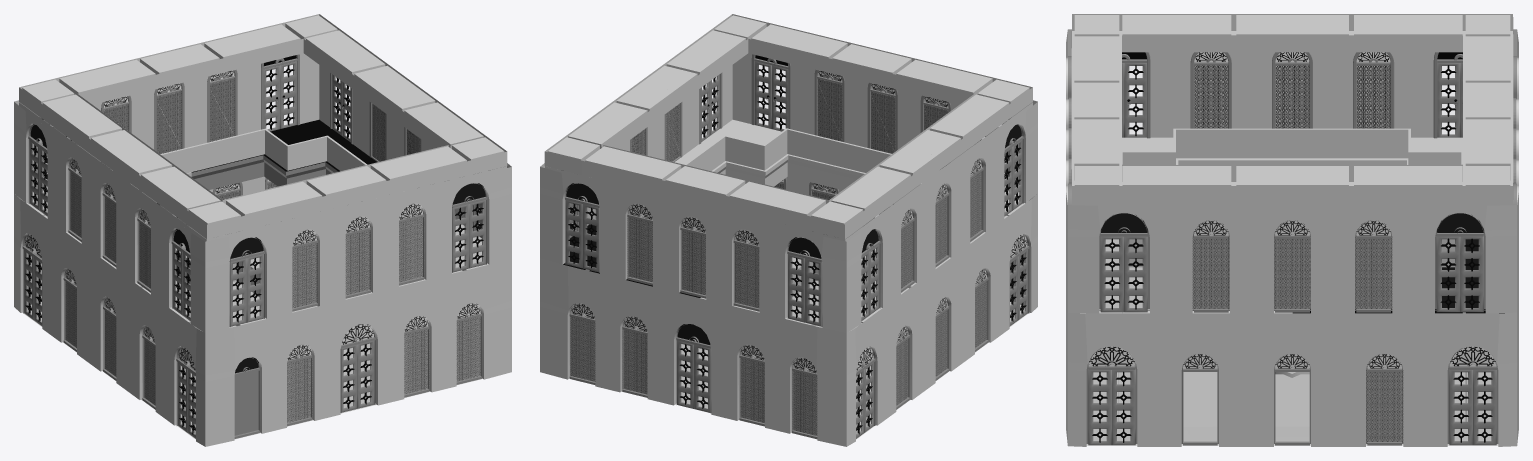
Rendered from obj_blocking_2.FBX.
3 views of the same model, side by side, from view 1: azimuth 30°, elevation 25°; view 2: azimuth 150°, elevation 25°; view 3: azimuth 270°, elevation 25° (orthographic). The views are drawn at different scales.
Parts seen in each view (by area): view 1: obj_walls_1st_floor_outside, obj_walls_2nd_floor_outside, obj_walls_2nd_floor, obj_balcony_bottom007, obj_balcony_bottom005, obj_balcony_bottom006, obj_balcony_bottom004, obj_fence, obj_walls_1st_floor, obj_balcony_top001, obj_window025, obj_window023 (+39 smaller); view 2: obj_walls_1st_floor_outside, obj_walls_2nd_floor_outside, obj_walls_2nd_floor, obj_balcony_bottom006, obj_balcony_bottom004, obj_balcony_bottom007, obj_balcony_bottom005, obj_fence, obj_walls_1st_floor, obj_balcony_top, obj_window018, obj_window017 (+39 smaller); view 3: obj_walls_1st_floor_outside, obj_walls_2nd_floor_outside, obj_walls_2nd_floor, obj_balcony_bottom004, obj_balcony_bottom005, obj_balcony_bottom006, obj_balcony_bottom007, obj_fence, obj_ground, obj_window020, obj_window022, obj_window010 (+27 smaller).
Part boxes in pixels (bbox=[...]): obj_walls_1st_floor_outside: bbox=[14, 193, 511, 446]; obj_walls_2nd_floor_outside: bbox=[14, 100, 511, 333]; obj_walls_2nd_floor: bbox=[19, 53, 506, 318]; obj_balcony_bottom007: bbox=[113, 147, 357, 239]; obj_balcony_bottom005: bbox=[335, 83, 507, 202]; obj_balcony_bottom006: bbox=[19, 50, 190, 170]; obj_balcony_bottom004: bbox=[169, 14, 413, 105]; obj_fence: bbox=[113, 128, 367, 296]; obj_walls_1st_floor: bbox=[20, 176, 483, 433]; obj_balcony_top001: bbox=[191, 119, 376, 178]; obj_window025: bbox=[207, 69, 237, 142]; obj_window023: bbox=[154, 82, 184, 154]; obj_walls_1st_floor_outside: bbox=[540, 193, 1037, 446]; obj_walls_2nd_floor_outside: bbox=[540, 100, 1037, 333]; obj_walls_2nd_floor: bbox=[545, 53, 1032, 318]; obj_balcony_bottom006: bbox=[694, 147, 938, 239]; obj_balcony_bottom004: bbox=[544, 83, 716, 202]; obj_balcony_bottom007: bbox=[861, 50, 1032, 170]; obj_balcony_bottom005: bbox=[638, 14, 882, 105]; obj_fence: bbox=[684, 128, 938, 296]; obj_walls_1st_floor: bbox=[567, 177, 1031, 433]; obj_balcony_top: bbox=[675, 119, 860, 179]; obj_window018: bbox=[867, 83, 898, 153]; obj_window017: bbox=[814, 70, 844, 142]; obj_walls_1st_floor_outside: bbox=[1066, 300, 1518, 446]; obj_walls_2nd_floor_outside: bbox=[1066, 29, 1518, 313]; obj_walls_2nd_floor: bbox=[1066, 52, 1518, 205]; obj_balcony_bottom004: bbox=[1292, 100, 1513, 203]; obj_balcony_bottom005: bbox=[1071, 100, 1292, 203]; obj_balcony_bottom006: bbox=[1292, 14, 1513, 117]; obj_balcony_bottom007: bbox=[1071, 14, 1292, 117]; obj_fence: bbox=[1122, 128, 1462, 267]; obj_ground: bbox=[1118, 372, 1465, 426]; obj_window020: bbox=[1355, 220, 1392, 312]; obj_window022: bbox=[1192, 220, 1229, 312]; obj_window010: bbox=[1366, 353, 1403, 445].
Bounding box in the file's own units: 1112 × 779 × 1201.
Materials: 5 (2 with a texture image).
